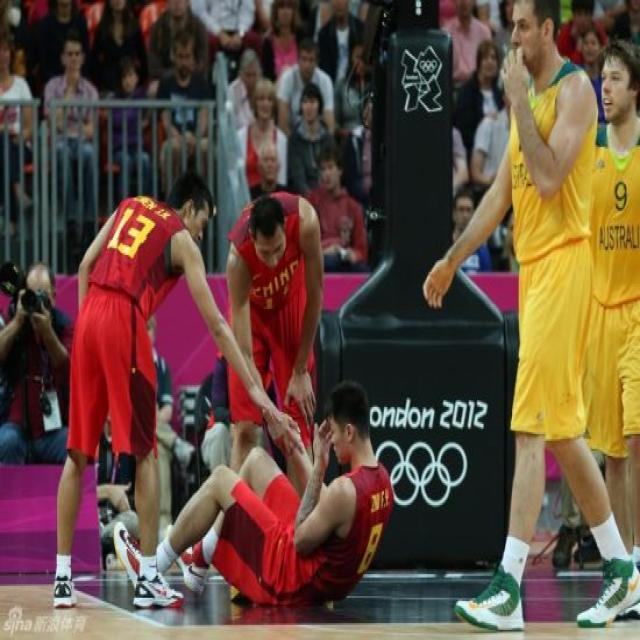10-: (6, 0, 639, 633)
down: (104, 364, 402, 610)
